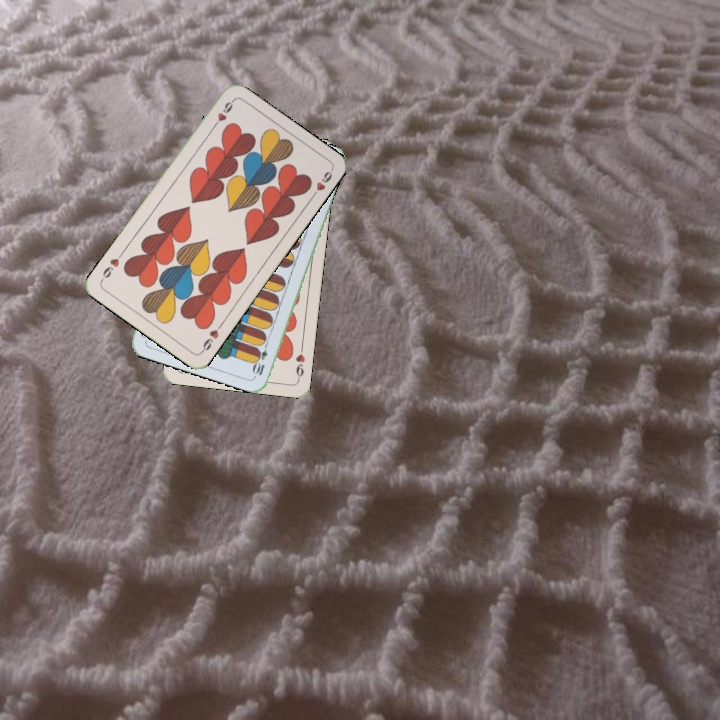E10: (251, 338, 271, 378)
H9: (208, 96, 236, 132), (197, 320, 225, 355), (291, 341, 308, 382)
